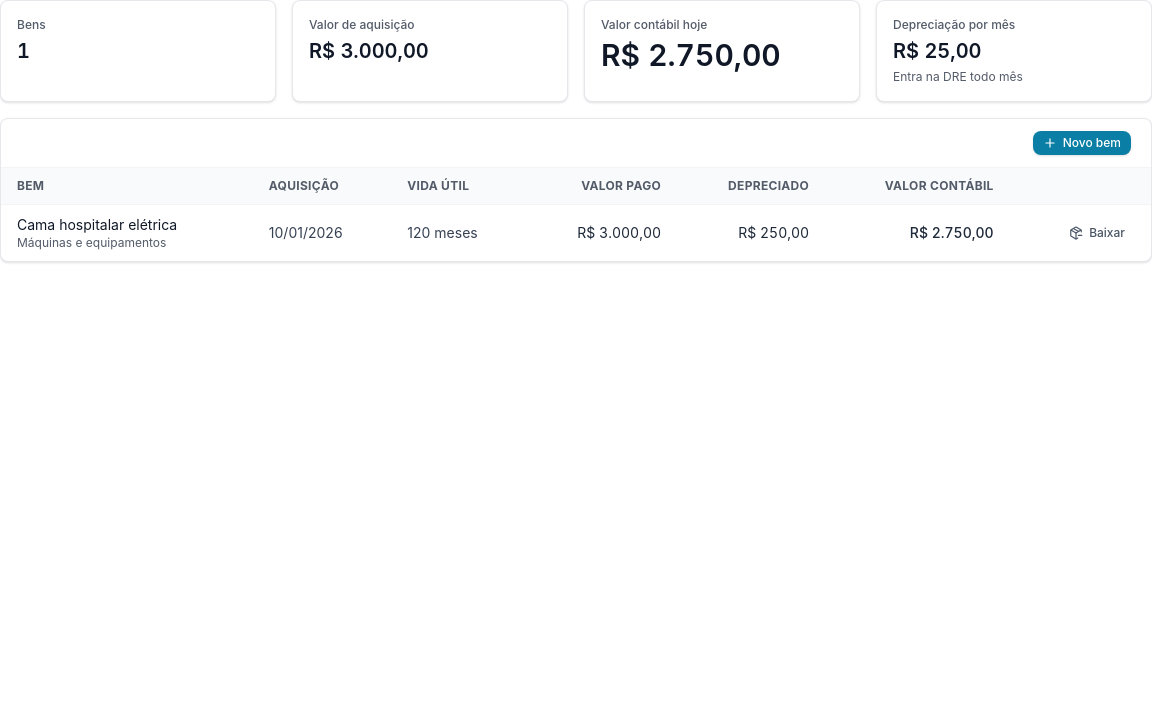
Test case: Capital › Patrimônio › baixar um bem: exige o motivo, manda, avisa e busca a lista de novo
Expected: the text "Cama hospitalar elétrica" is shown, [17, 216, 177, 233]
Click the button "Baixar".
click(1097, 233)  # box [1059, 221, 1135, 245]
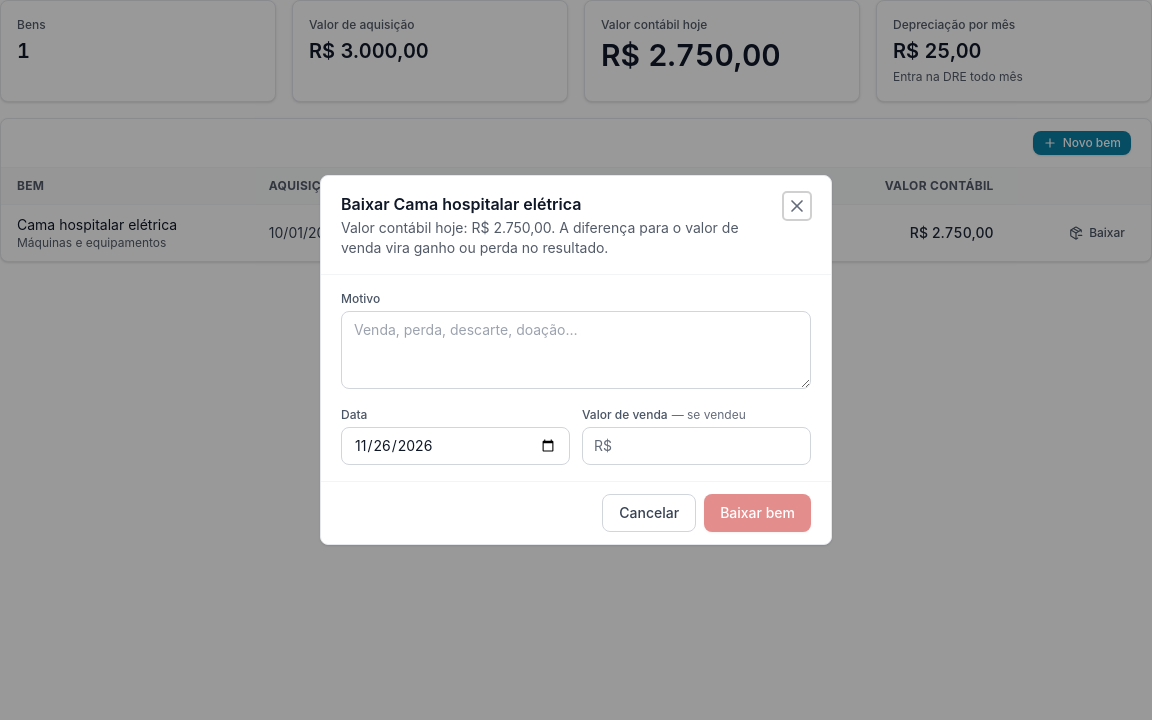
Expected: the button "Baixar bem" is disabled, [704, 494, 811, 532]
Type "Descarte por defeito" into the text box labelled "Motivo".
click(576, 350); type("Descarte por defeito")  # box [341, 311, 811, 389]
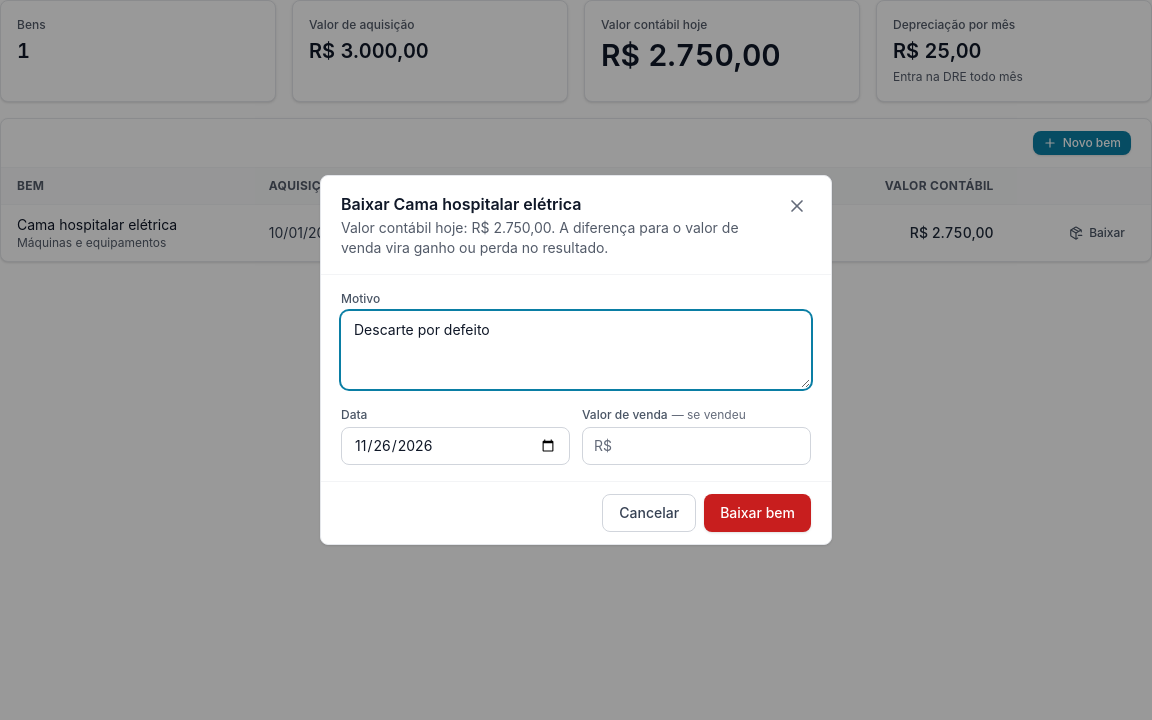
Click the button "Baixar bem".
click(758, 513)  # box [704, 494, 811, 532]
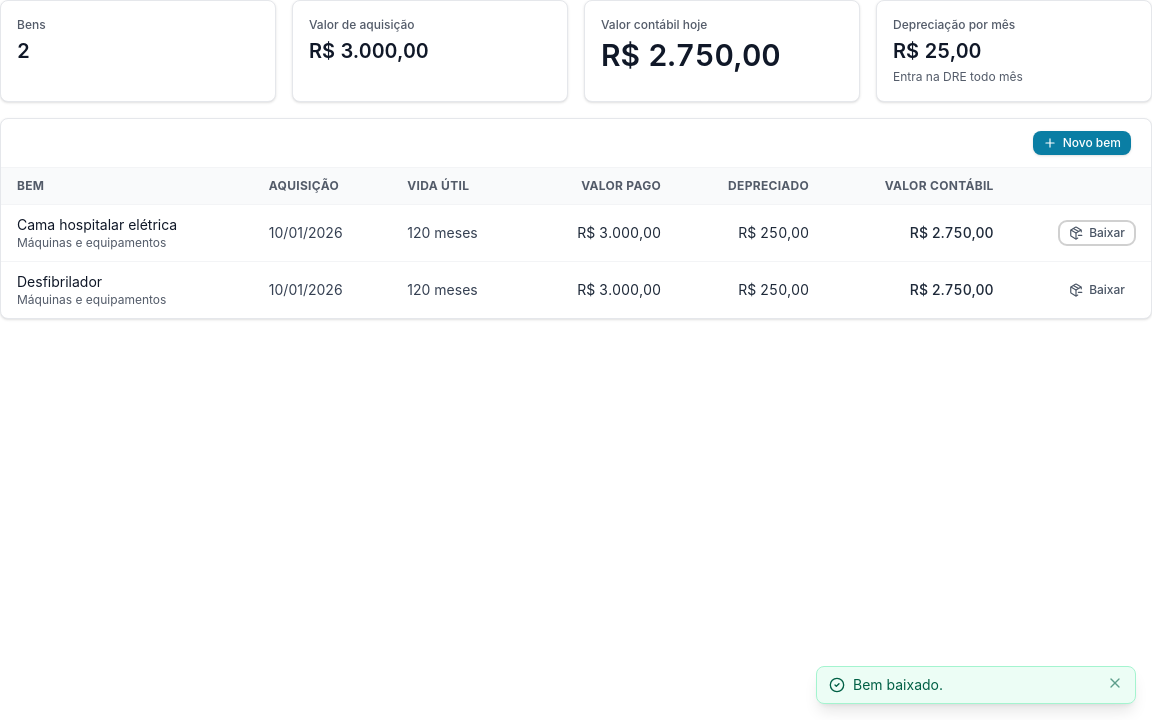
Expected: the text "Bem baixado." is shown, [853, 676, 943, 693]
